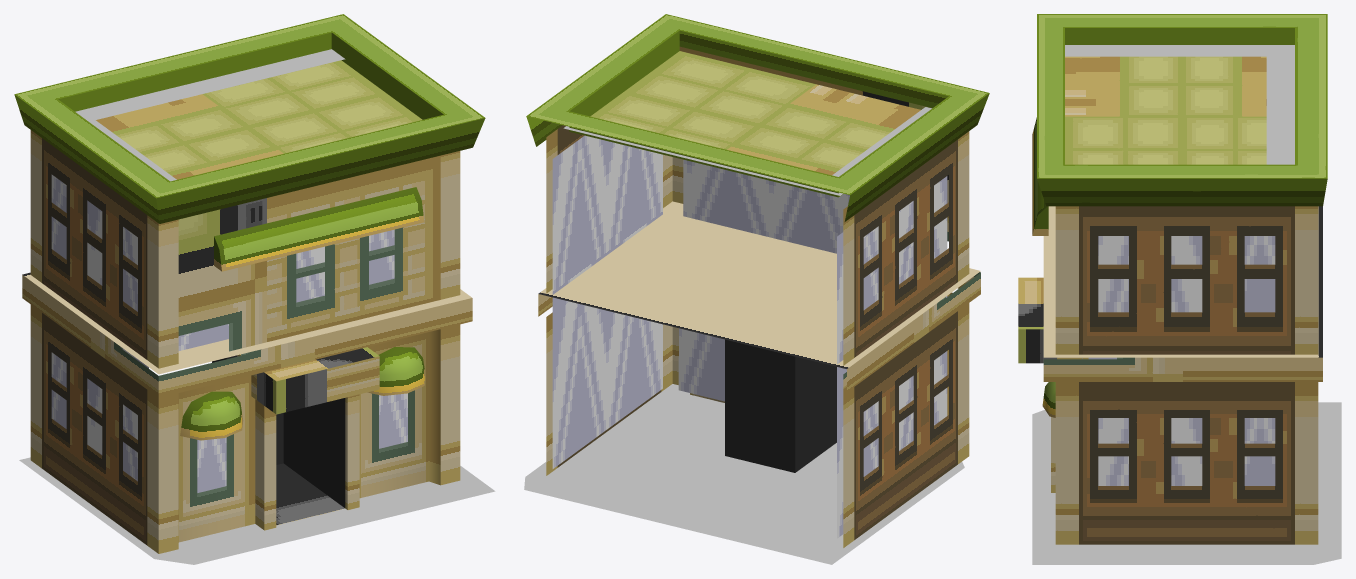
File: rr_mise_03.dae
3 views of the same model, side by side, from view 1: azimuth 30°, elevation 25°; view 2: azimuth 150°, elevation 25°; view 3: azimuth 270°, elevation 25° (orthographic). The views are drawn at different scales.
Parts seen in each view (by area): view 1: rr_mise_03; view 2: rr_mise_03; view 3: rr_mise_03.
Part boxes in pixels (box(x1,y1,x2,y2)): rr_mise_03: box(14, 14, 495, 564); rr_mise_03: box(524, 14, 989, 564); rr_mise_03: box(1018, 14, 1341, 564).
Bounding box in the file's own units: 84.98 × 90 × 69.
